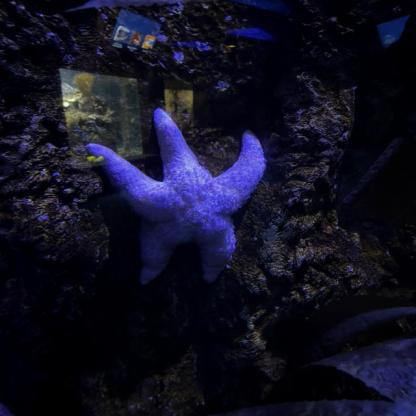starfish: (85, 114, 272, 284)
